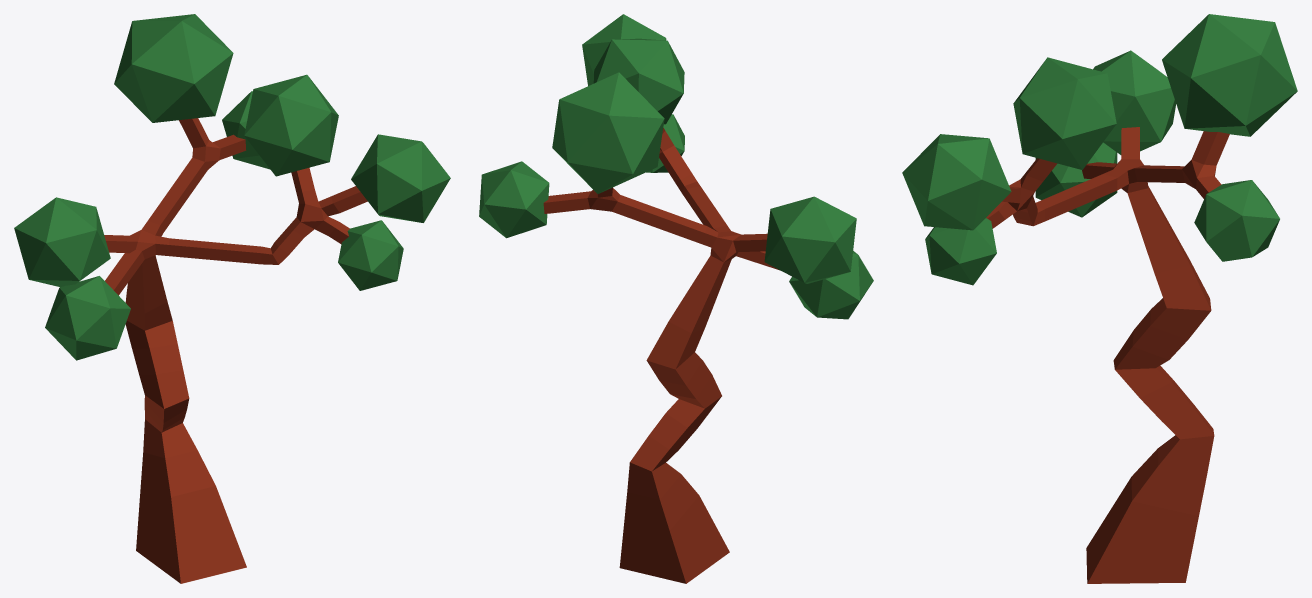
File: PolyBaum01.fbx
3 views of the same model, side by side, from view 1: azimuth 30°, elevation 25°; view 2: azimuth 150°, elevation 25°; view 3: azimuth 270°, elevation 25° (orthographic). The views are drawn at different scales.
Visible parts, largest first — view 1: Icosphere.004; view 2: Icosphere.004; view 3: Icosphere.004.
Boxes of the visible parts, box(x1,y1,x2,y2) form: Icosphere.004: box(14, 14, 450, 583); Icosphere.004: box(479, 14, 873, 583); Icosphere.004: box(902, 14, 1297, 583).
Size of the model in its own units: 557 by 808 by 513.
